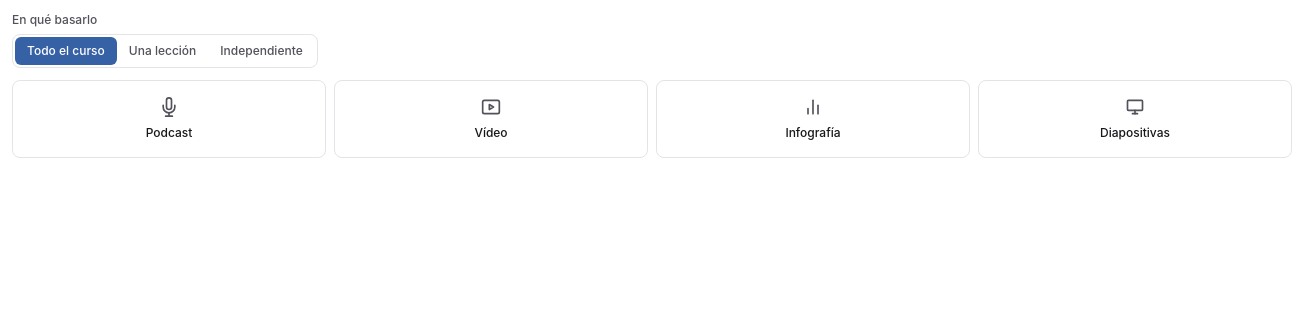
<CourseMediaGenerator> with every capability ready › opens the steering field when a kind is picked
Expected: the field labelled "Enfoque o información extra para la generación" is not shown
Click the button "Infografía".
click(813, 119)  # box [656, 80, 970, 158]
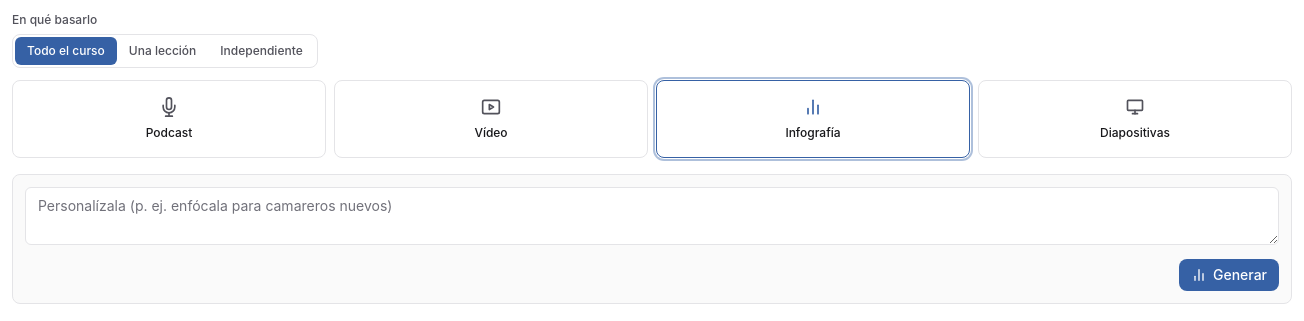
Expected: the text box named "Enfoque o información extra para la generación" is shown, [25, 187, 1279, 245]
